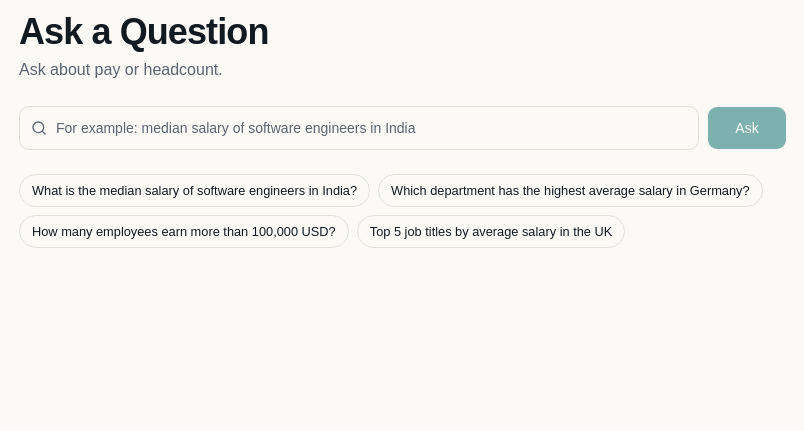
it: when it needs help › notes about assumptions are shown with the answer
The image size is (804, 431).
Type "median salary in India" into the field named "Your question" at point(359, 128), box x1=19 y1=106 x2=699 y2=150
Then press Enter
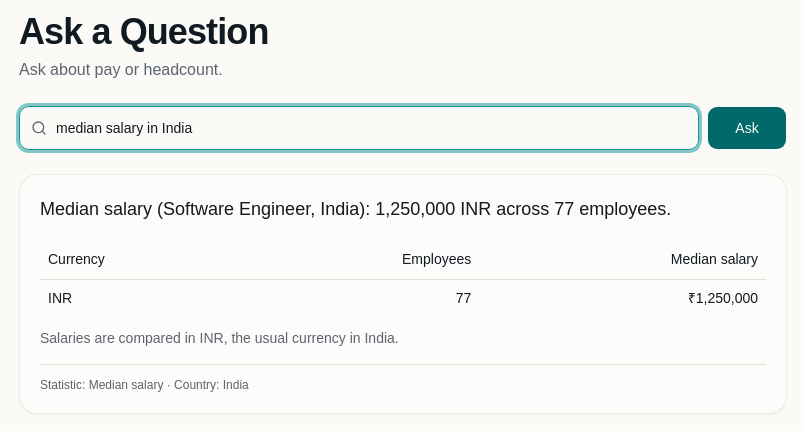
Check: the text "Salaries are compared in INR, the usual currency in India." is shown, box x1=40 y1=330 x2=399 y2=346
